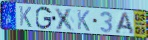3: (99, 10, 114, 34)
A: (115, 12, 136, 36)
G: (35, 6, 53, 31)
K: (19, 5, 33, 29), (77, 9, 91, 32)
X: (54, 7, 76, 32)
